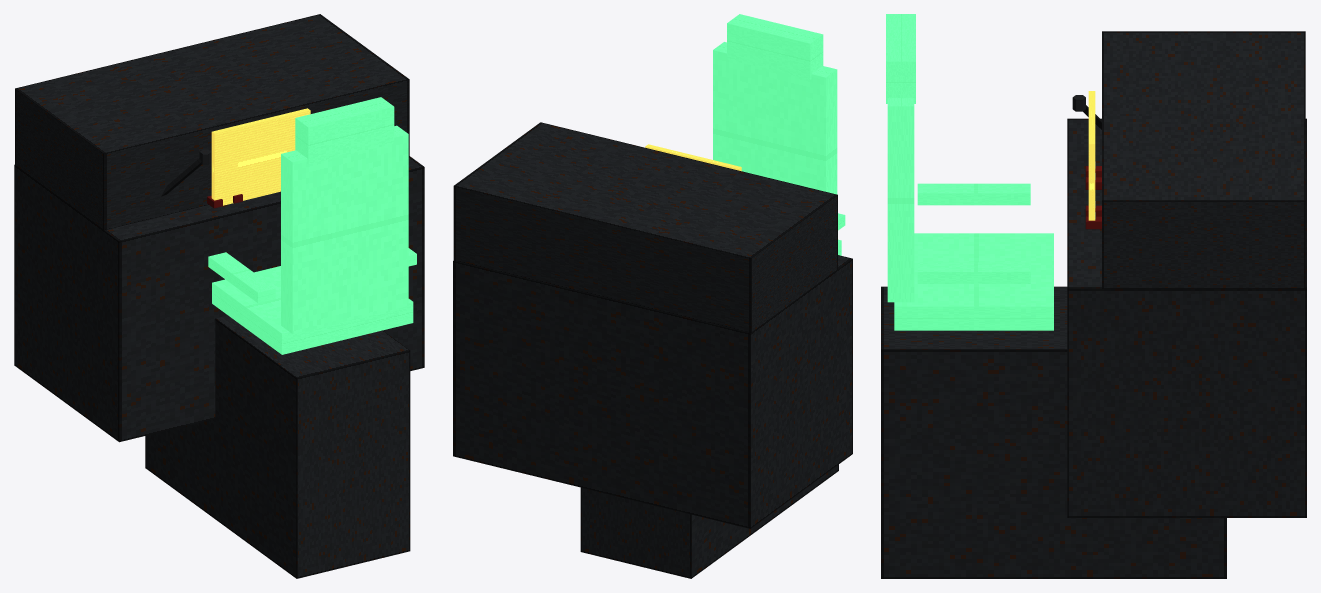
Rendered from bridge_console_desk_industrial_hazard.glb.
The picture shows the model from 3 angles, left to right: view 1: azimuth 30°, elevation 25°; view 2: azimuth 150°, elevation 25°; view 3: azimuth 270°, elevation 25°; orthographic projection. The views are drawn at different scales.
Parts seen in each view (by area): view 1: bridge_console_desk_industrial_hazard; view 2: bridge_console_desk_industrial_hazard; view 3: bridge_console_desk_industrial_hazard.
Part boxes in pixels (x1=…): bridge_console_desk_industrial_hazard: x1=14, y1=14, x2=424, y2=578; bridge_console_desk_industrial_hazard: x1=453, y1=14, x2=852, y2=578; bridge_console_desk_industrial_hazard: x1=881, y1=14, x2=1306, y2=578.
Size of the model in its own units: 1.21 by 1.69 by 1.28.
Materials: 6 (6 with a texture image).
